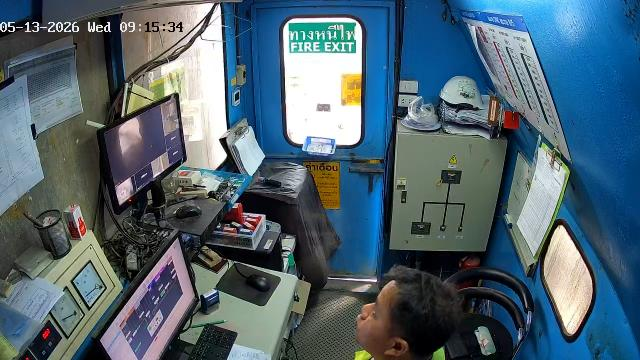Head: (354, 265, 462, 359)
Phone: (446, 330, 469, 359)
